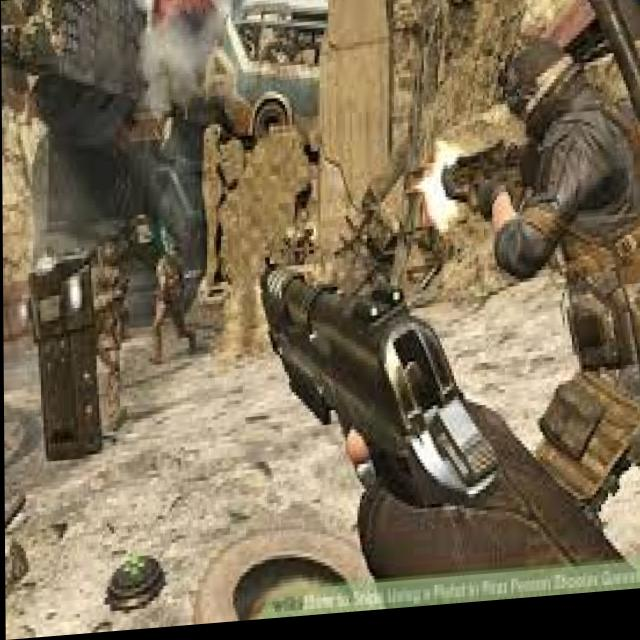handgun: (241, 232, 497, 533)
